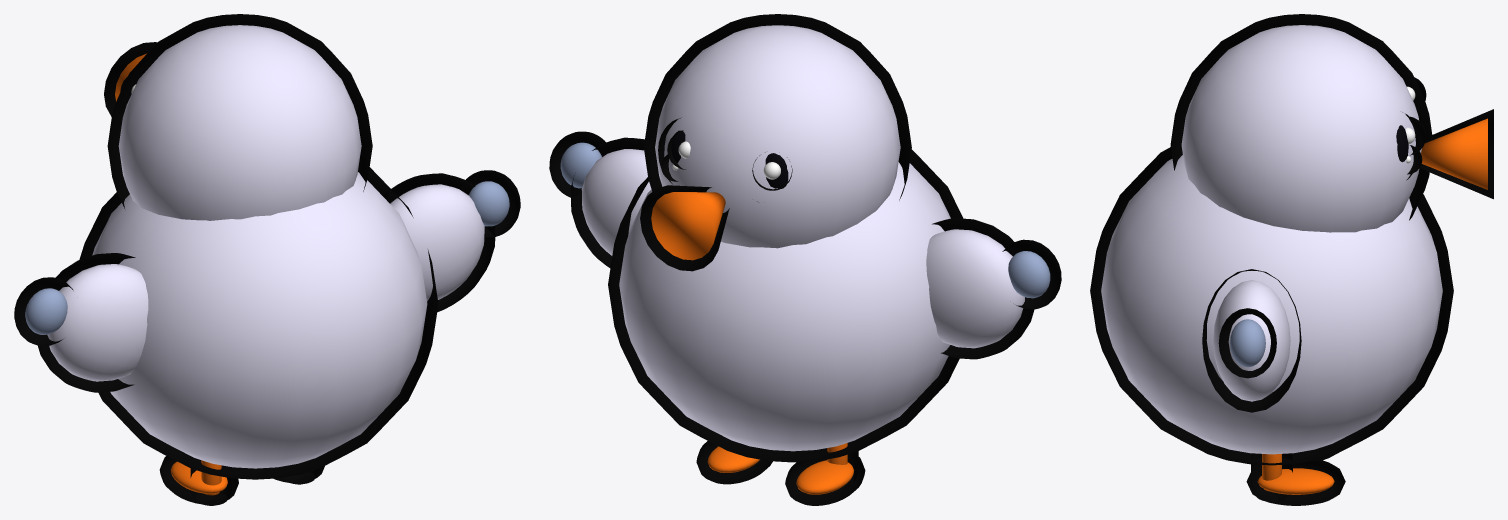
The model's file is Gull_1.glb.
3 renders of one model, left to right at view 1: azimuth 30°, elevation 25°; view 2: azimuth 150°, elevation 25°; view 3: azimuth 270°, elevation 25°, orthographic.
Visible parts, largest first — view 1: Gull_1.001; view 2: Gull_1.001; view 3: Gull_1.001.
Part boxes in pixels (box(x1,y1,x2,y2)): Gull_1.001: box(14, 14, 520, 505); Gull_1.001: box(549, 14, 1061, 505); Gull_1.001: box(1090, 14, 1493, 505).
Size of the model in its own units: 3.28 by 2.86 by 2.31.
Materials: 1 (1 with a texture image).
